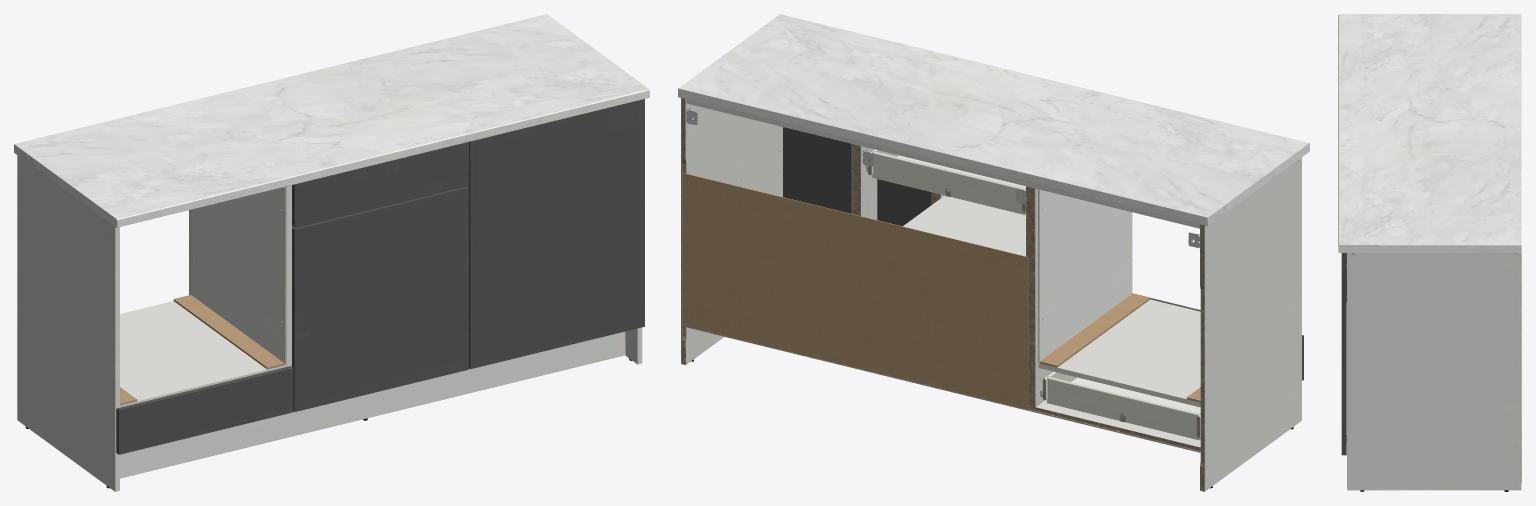
Rendered from knoxhult-armario-bajo-con-puertas-y-cajon-gris-oscuro.glb.
The picture shows the model from 3 angles, left to right: view 1: azimuth 30°, elevation 25°; view 2: azimuth 150°, elevation 25°; view 3: azimuth 270°, elevation 25°; orthographic projection. The views are drawn at different scales.
Parts seen in each view (by area): view 1: ASY_ART_20588787_S01_NV01; view 2: ASY_ART_20588787_S01_NV01; view 3: ASY_ART_20588787_S01_NV01.
Boxes of the visible parts, bbox=[...] form: ASY_ART_20588787_S01_NV01: bbox=[14, 14, 649, 491]; ASY_ART_20588787_S01_NV01: bbox=[678, 14, 1309, 491]; ASY_ART_20588787_S01_NV01: bbox=[1338, 14, 1521, 491].
Size of the model in its own units: 1.82 by 0.9105 by 0.6099.
Materials: 2 (1 with a texture image).
